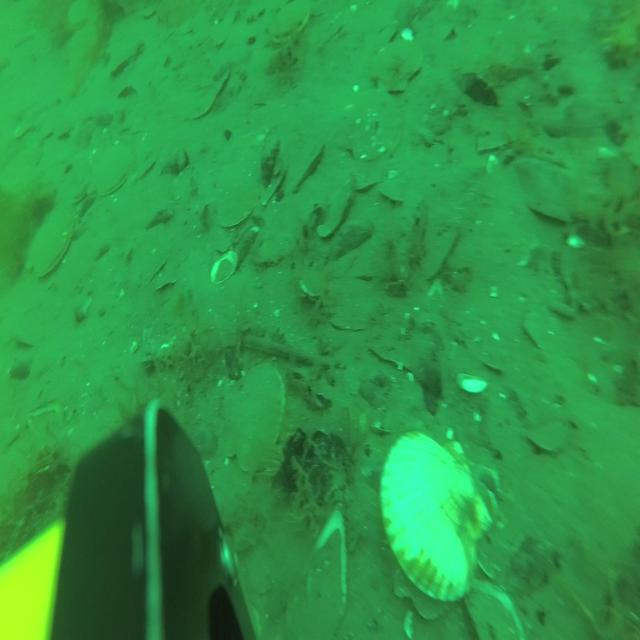scallop: (378, 428, 492, 605), (219, 365, 283, 473), (347, 91, 402, 167), (25, 209, 73, 282), (372, 37, 422, 97), (216, 163, 258, 233), (310, 176, 353, 233), (92, 147, 135, 201), (266, 2, 312, 46), (528, 416, 570, 461), (289, 140, 324, 187), (355, 162, 382, 196), (378, 175, 408, 204), (72, 181, 89, 205)
